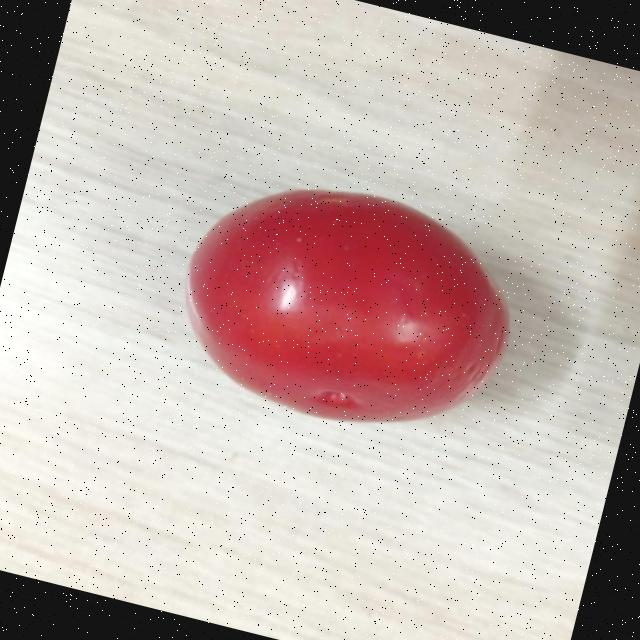Ripe: (153, 150, 546, 467)
